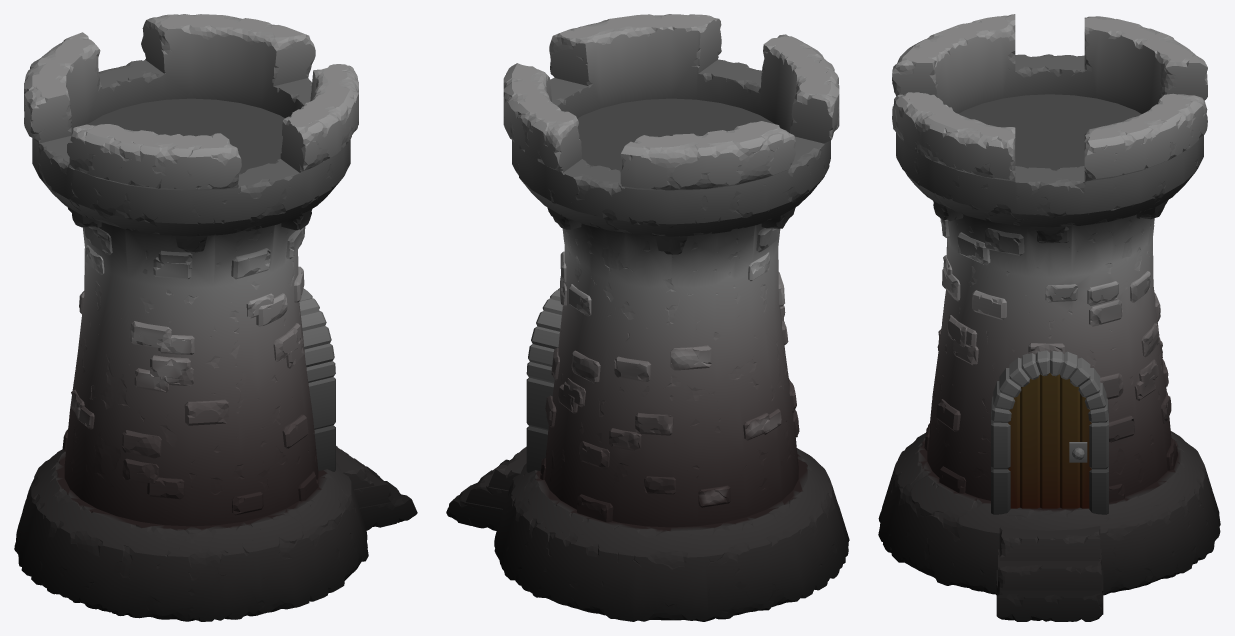
File: Tower_01.fbx
The picture shows the model from 3 angles, left to right: view 1: azimuth 30°, elevation 25°; view 2: azimuth 150°, elevation 25°; view 3: azimuth 270°, elevation 25°; orthographic projection. The views are drawn at different scales.
Parts seen in each view (by area): view 1: Tower_01; view 2: Tower_01; view 3: Tower_01.
Boxes of the visible parts, x1,y1,x2,y2 form: Tower_01: [14, 14, 417, 621]; Tower_01: [446, 14, 849, 621]; Tower_01: [878, 14, 1220, 621].
Bounding box in the file's own units: 230 × 287 × 198.
